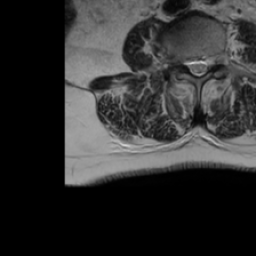CCS_normal: (193, 48, 201, 82)
LFS_normal: (211, 46, 221, 73)
LLS_normal: (201, 47, 211, 78)
RFS_stenosis: (177, 48, 185, 74)
RLS_normal: (185, 49, 193, 79)
